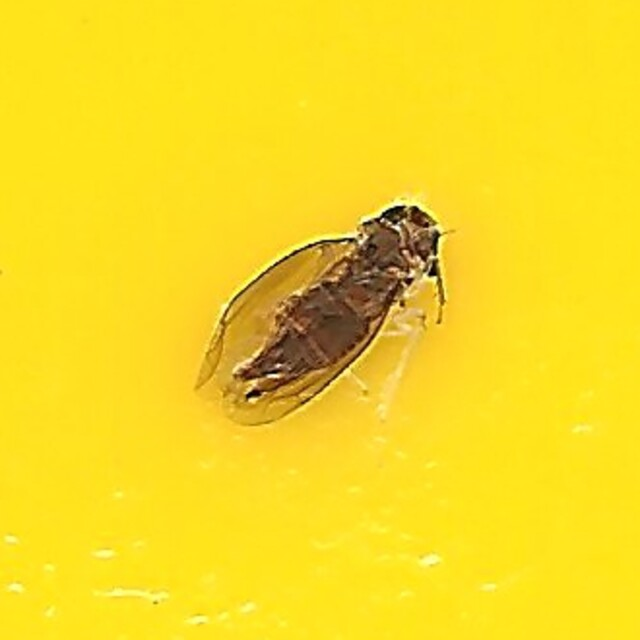Hemiptera: (194, 200, 446, 440)
